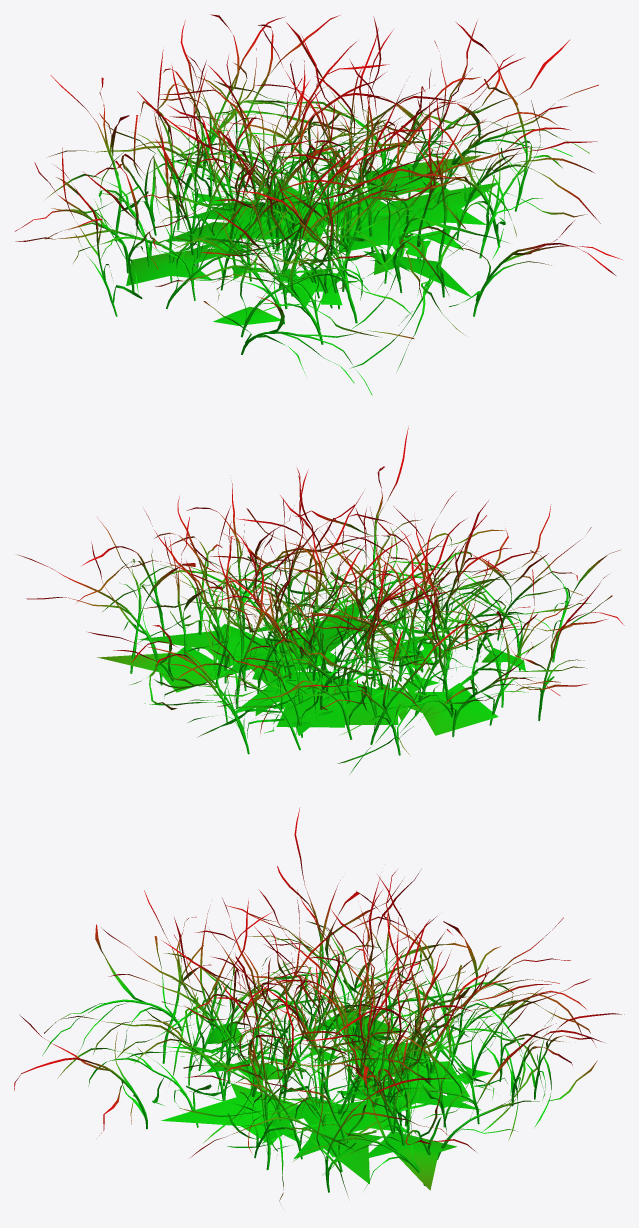
The model's file is Kikuyu Grass_LOD1_Var8_wiljearqx.fbx.
3 renders of one model, top to bottom at view 1: azimuth 30°, elevation 25°; view 2: azimuth 150°, elevation 25°; view 3: azimuth 270°, elevation 25°, orthographic. The views are drawn at different scales.
Parts seen in each view (by area): view 1: _cmi8_Var8_LOD1; view 2: _cmi8_Var8_LOD1; view 3: _cmi8_Var8_LOD1.
Boxes of the visible parts, x1,y1,x2,y2 form: _cmi8_Var8_LOD1: [15, 14, 622, 395]; _cmi8_Var8_LOD1: [18, 427, 624, 773]; _cmi8_Var8_LOD1: [14, 807, 624, 1205].
Bounding box in the file's own units: 104 × 38.98 × 97.84.
